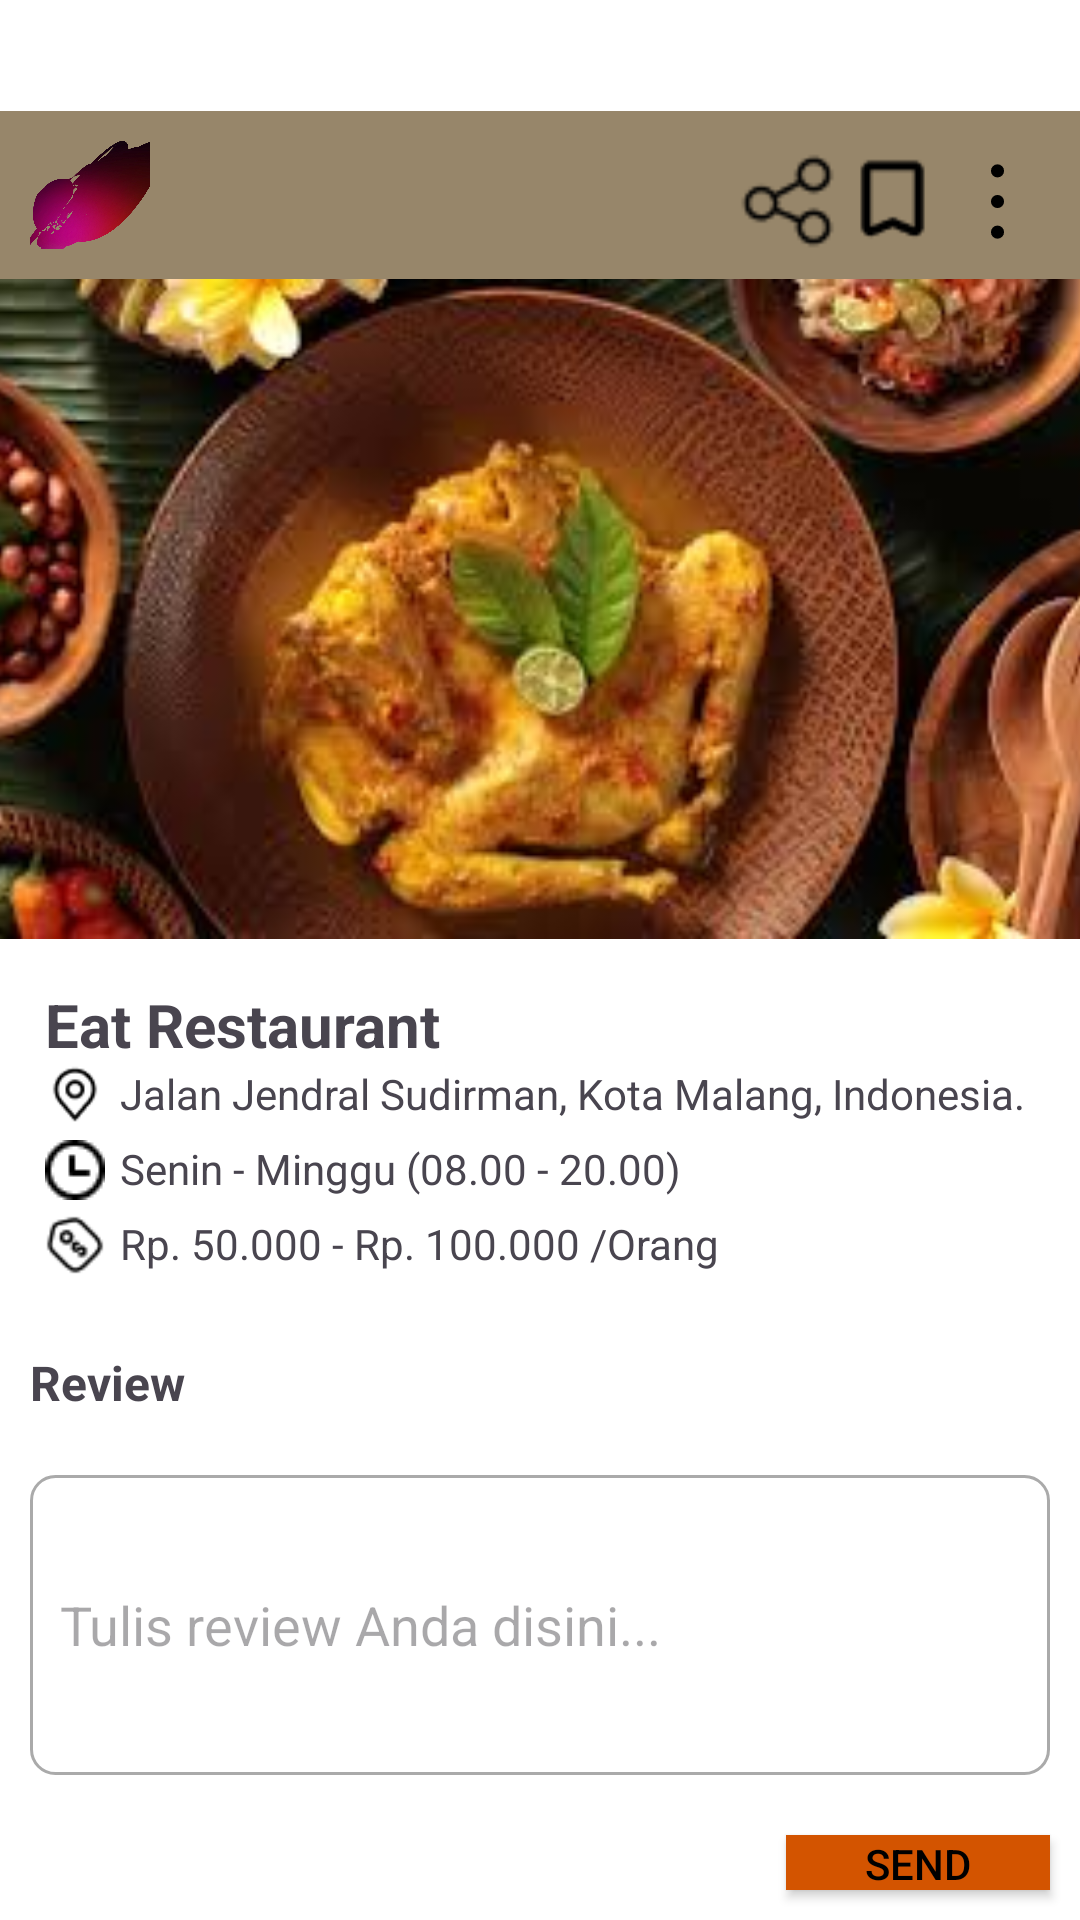

Icon click points for this 1080x1920 phone screenshot, format point (x, y):
clock: point (75, 1170)
location: point (75, 1095)
menu: point (997, 201)
money: point (75, 1245)
save: point (892, 198)
share: point (787, 201)
